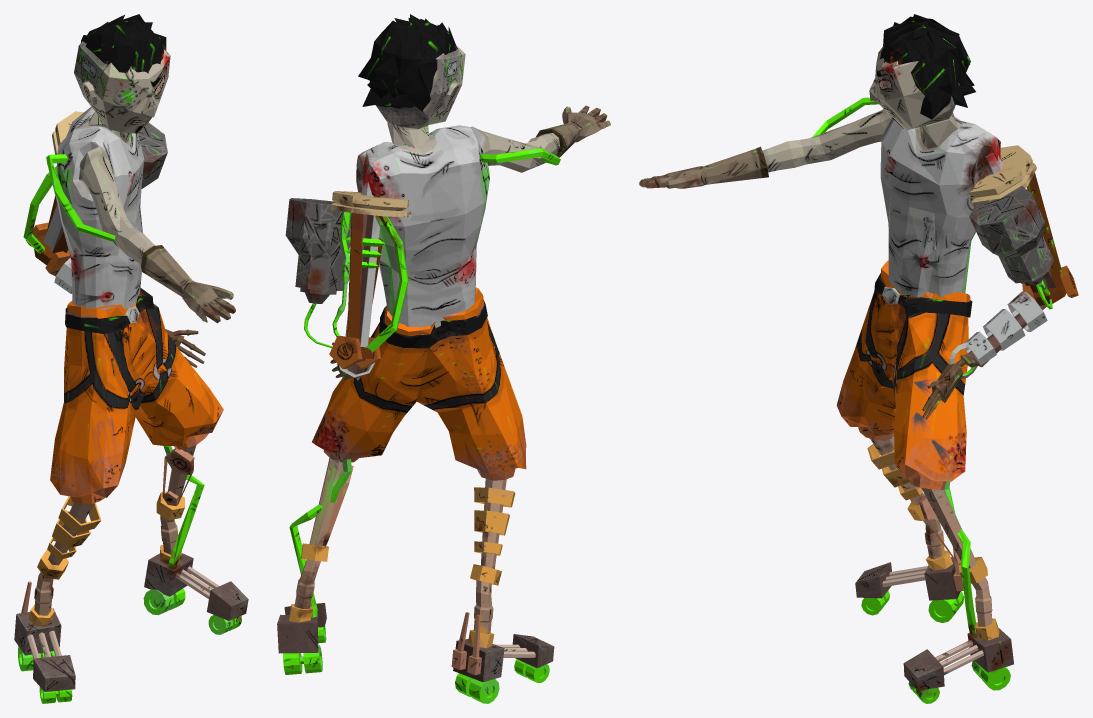
File: CyborgFINALAnimation_000013.obj
The picture shows the model from 3 angles, left to right: view 1: azimuth 30°, elevation 25°; view 2: azimuth 150°, elevation 25°; view 3: azimuth 270°, elevation 25°; orthographic projection. The views are drawn at different scales.
Parts seen in each view (by area): view 1: CyborgMesh_Cube.002; view 2: CyborgMesh_Cube.002; view 3: CyborgMesh_Cube.002.
Part boxes in pixels (x1,y1,x2,y2): CyborgMesh_Cube.002: (14,14,248,703); CyborgMesh_Cube.002: (277,14,610,703); CyborgMesh_Cube.002: (639,14,1078,703).
Size of the model in its own units: 3.56 by 9.51 by 5.97.
